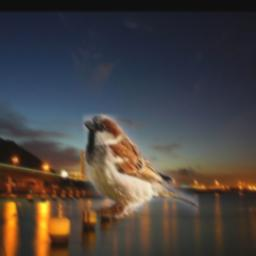Sparrow: (84, 114, 200, 218)
